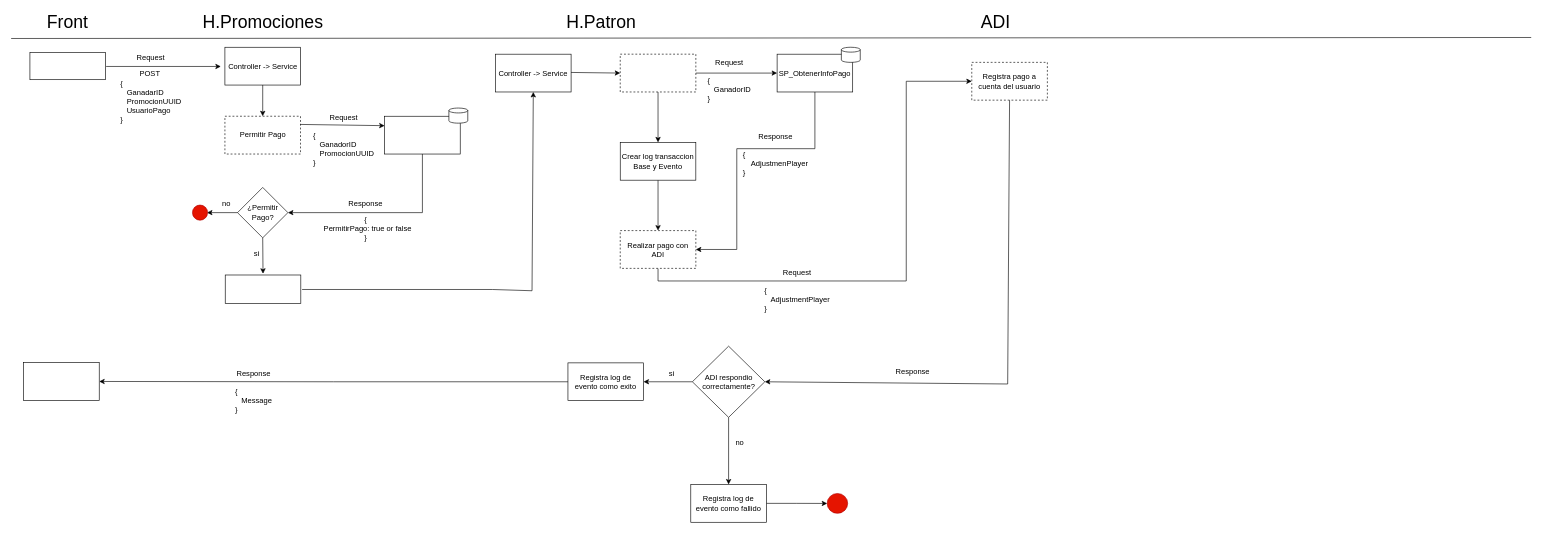
The diagram is 1543 pixels wide and 533 high, and some of its shapes have lost their labels. Here are the shapes that lost their labels. From the top down, the centre of each, then its label:
[67,66]: Boton Pagar
[658,73]: AdjustPlayerBalance
[422,135]: SP_InicarPago
[263,288]: Llamada a HubPatron
[61,381]: Mostrar Pop up de pago exitoso
